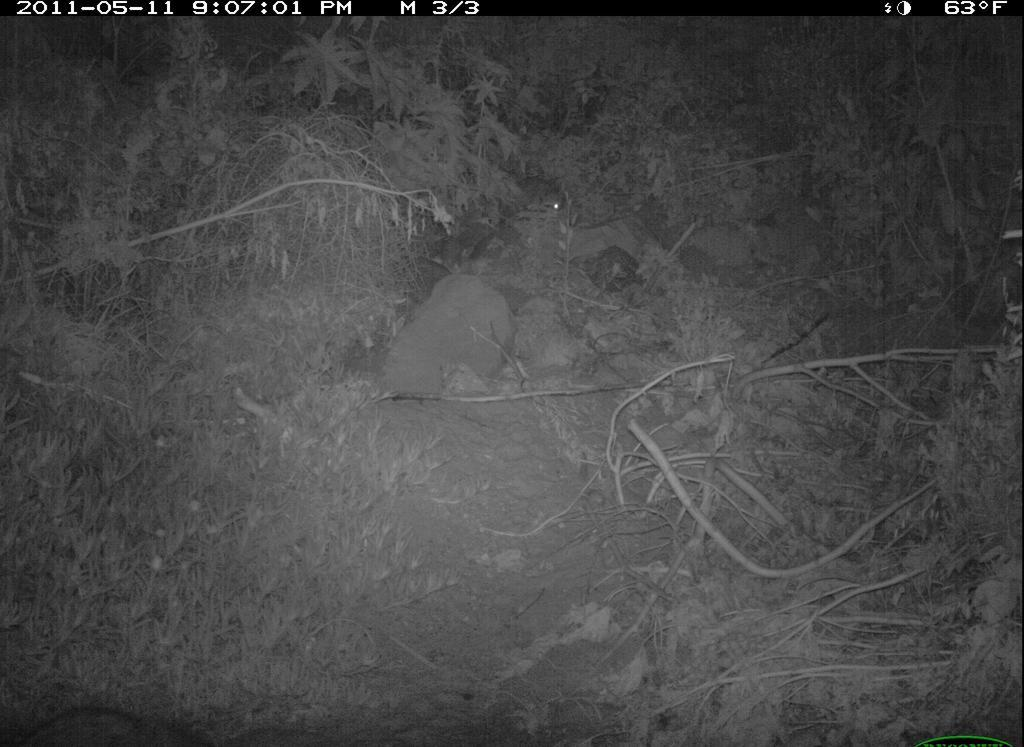raccoon: (4, 684, 246, 747), (497, 170, 574, 221)
